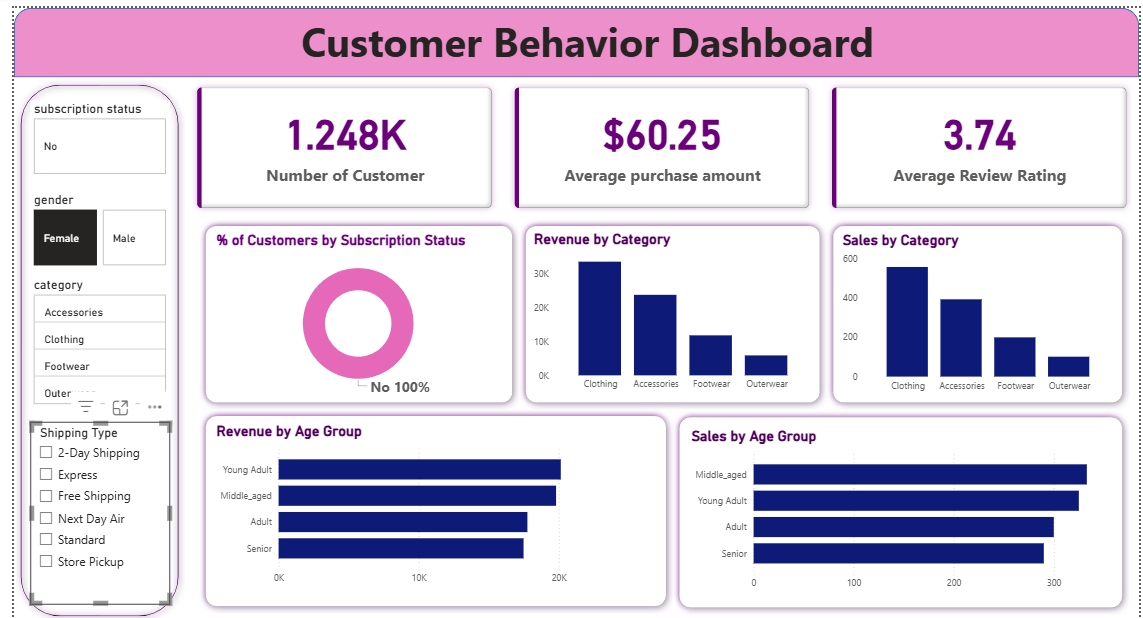

The dashboard page shown, as its layout file describes it:
{"tool":"powerbi","page":{"name":"Page 1","canvas":[1500,820],"ordinal":0},"visuals":[{"type":"cardVisual","fields":{"Data":["public customer.Number of Customer","public customer.Average purchase amount","public customer.Average Review Rating"]},"box":[228.3,90,1271.7,193.3],"z":0},{"type":"shape","box":[0,0,1500,92.5],"z":1000},{"type":"textbox","box":[288.8,2.5,967.5,87.5],"z":2000},{"type":"shape","box":[246.7,281.7,426.7,253.3],"z":3000},{"type":"donutChart","title":"% of Customers by Subscription Status","fields":{"Category":["public customer.subscription_status"],"Y":["CountNonNull(public customer.customer_id)"]},"box":[265,298.3,388.3,223.3],"z":4000},{"type":"shape","box":[1083.3,281.7,403.3,253.3],"z":5000},{"type":"shape","box":[673.3,281.7,410,253.3],"z":6000},{"type":"clusteredColumnChart","title":"Revenue by Category","fields":{"Y":["Sum(public customer.purchase_amount)"],"Category":["public customer.category"]},"box":[688.3,296.7,380,223.3],"z":7000},{"type":"clusteredColumnChart","title":"Sales by Category","fields":{"Category":["public customer.category"],"Y":["CountNonNull(public customer.customer_id)"]},"box":[1100,298.3,370,223.3],"z":8000},{"type":"shape","box":[0,93.3,228.3,726.7],"z":9000},{"type":"advancedSlicerVisual","fields":{"Values":["public customer.subscription_status"]},"box":[21.7,123.3,186.7,103.3],"z":10000},{"type":"advancedSlicerVisual","fields":{"Values":["public customer.gender"]},"box":[21.7,245,186.7,103.3],"z":11000},{"type":"advancedSlicerVisual","fields":{"Values":["public customer.category"]},"box":[21.7,358.3,186.7,176.7],"z":12000},{"type":"slicer","fields":{"Values":["public customer.shipping_type"]},"box":[21.7,551.7,186.7,243.3],"z":13000},{"type":"shape","box":[246.7,535,631.7,271.7],"z":14000},{"type":"clusteredBarChart","title":"Revenue by Age Group","fields":{"Y":["Sum(public customer.purchase_amount)"],"Category":["public customer.age_group"]},"box":[265,553.3,570,225],"z":15000},{"type":"shape","box":[878.3,536.7,608.3,271.7],"z":16000},{"type":"clusteredBarChart","title":"Sales by Age Group","fields":{"Y":["CountNonNull(public customer.customer_id)"],"Category":["public customer.age_group"]},"box":[898.3,560,570,225],"z":17000}]}

Visuals, with their boxes in screenshot pixels (x1, y1, x2, y2), scaled from the page's 1500x820 canvas onto the 1143x618 screenshot:
cardVisual - public customer.Number of Customer x public customer.Average purchase amount: [174,68,1142,214]
shape: [0,0,1142,70]
textbox: [220,2,957,68]
shape: [188,212,513,403]
"% of Customers by Subscription Status" donutChart: [202,225,498,393]
shape: [825,212,1133,403]
shape: [513,212,825,403]
"Revenue by Category" clusteredColumnChart: [524,224,814,392]
"Sales by Category" clusteredColumnChart: [838,225,1120,393]
shape: [0,70,174,617]
advancedSlicerVisual - public customer.subscription_status: [17,93,159,171]
advancedSlicerVisual - public customer.gender: [17,185,159,262]
advancedSlicerVisual - public customer.category: [17,270,159,403]
slicer - public customer.shipping_type: [17,416,159,599]
shape: [188,403,669,608]
"Revenue by Age Group" clusteredBarChart: [202,417,636,587]
shape: [669,404,1133,609]
"Sales by Age Group" clusteredBarChart: [685,422,1119,592]
